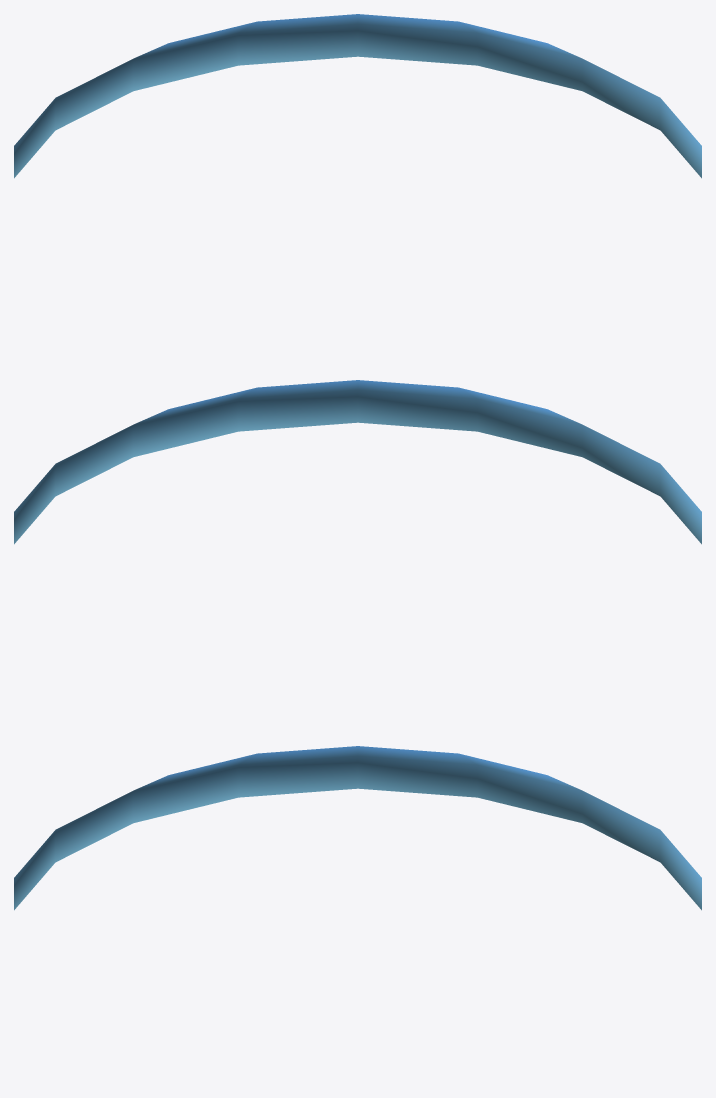
The model's file is kd_connection_world-outer_surface_22_0.glb.
3 views of the same model, one above another, from view 1: azimuth 30°, elevation 25°; view 2: azimuth 150°, elevation 25°; view 3: azimuth 270°, elevation 25° (orthographic).
Parts seen in each view (by area): view 1: kd_connection_world-outer_surface_22_0; view 2: kd_connection_world-outer_surface_22_0; view 3: kd_connection_world-outer_surface_22_0.
Boxes of the visible parts, x1,y1,x2,y2 form: kd_connection_world-outer_surface_22_0: (14,14,701,178); kd_connection_world-outer_surface_22_0: (14,380,701,544); kd_connection_world-outer_surface_22_0: (14,746,701,910).
Size of the model in its own units: 25448 by 4379 by 25061.
1 material, 1 textured.
